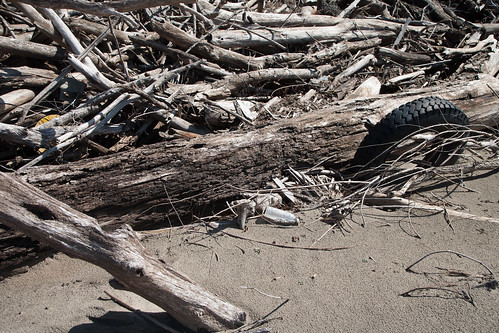trash: (345, 93, 480, 202)
vegetation: (2, 1, 499, 327)
